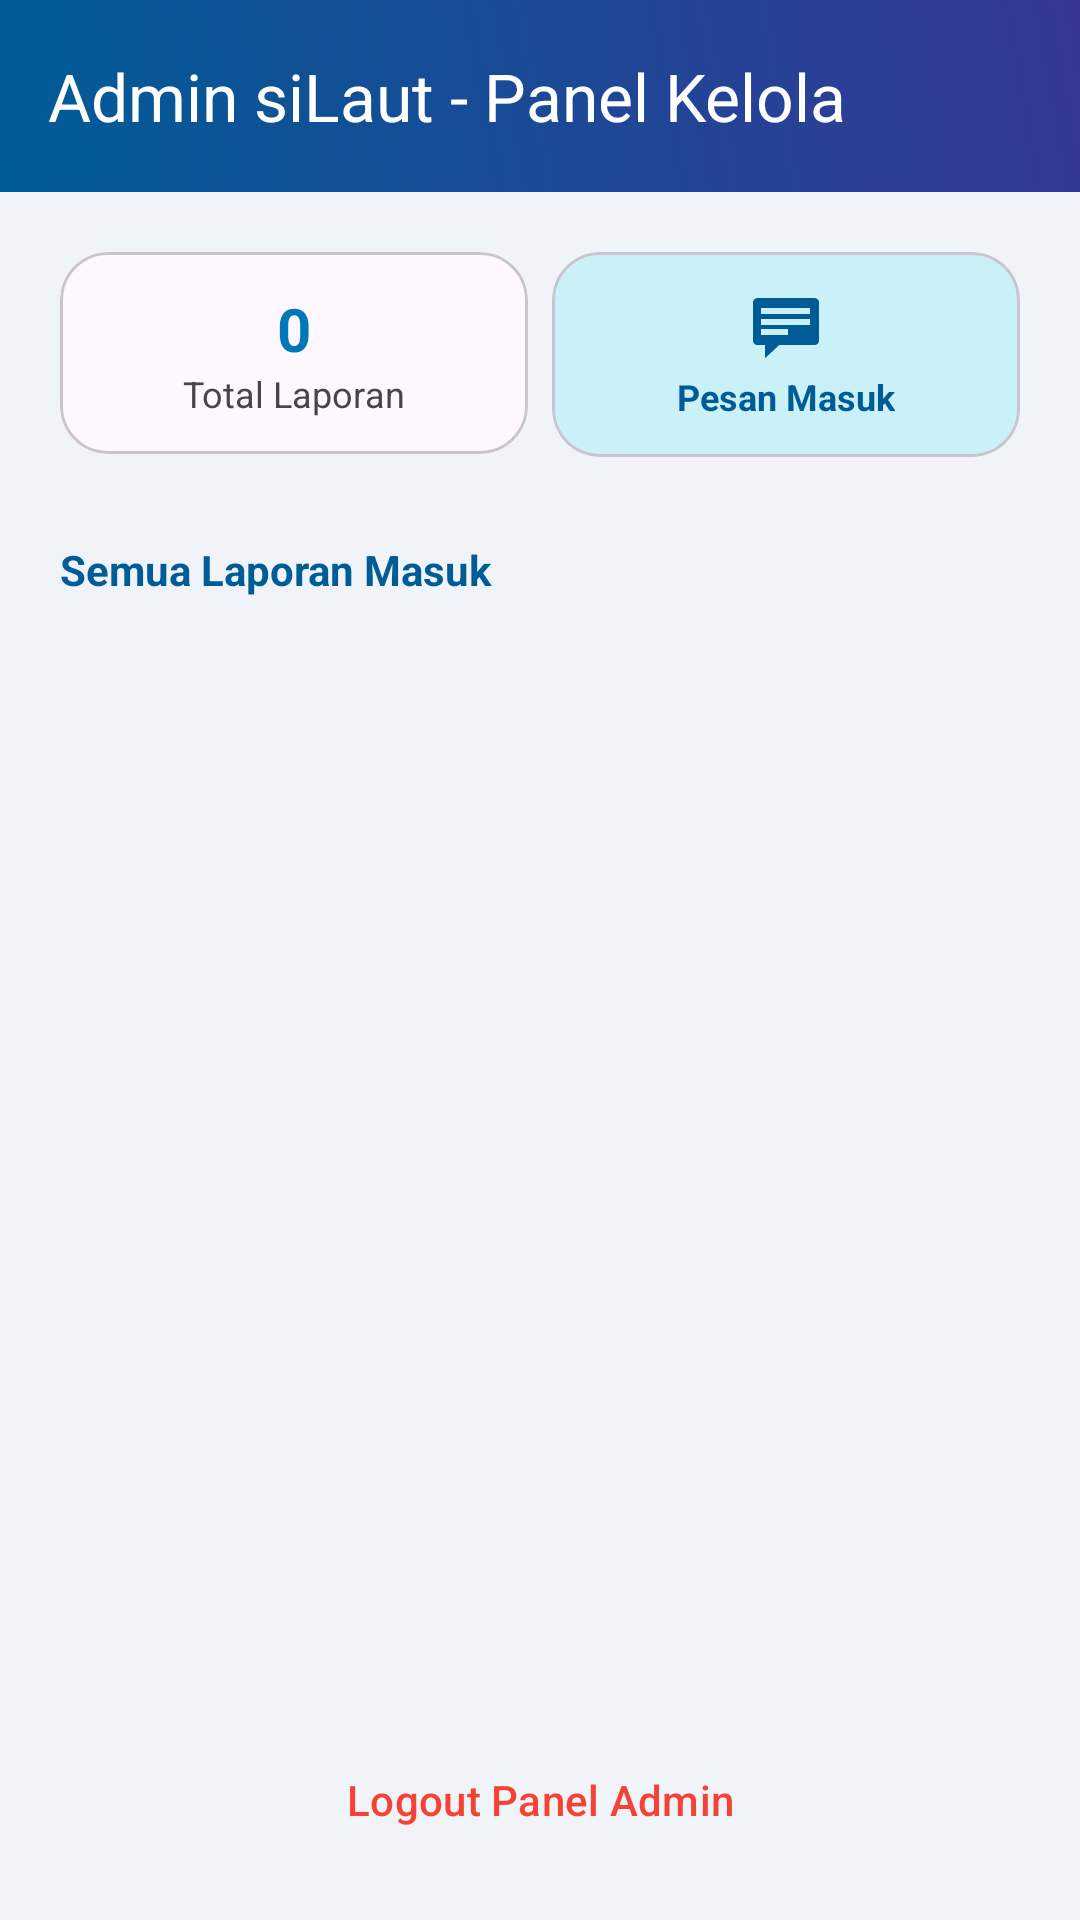

Screen size 1080x1920. Icon name, then its center in pixels as (x=x, y=y):
chat: (x=786, y=328)
